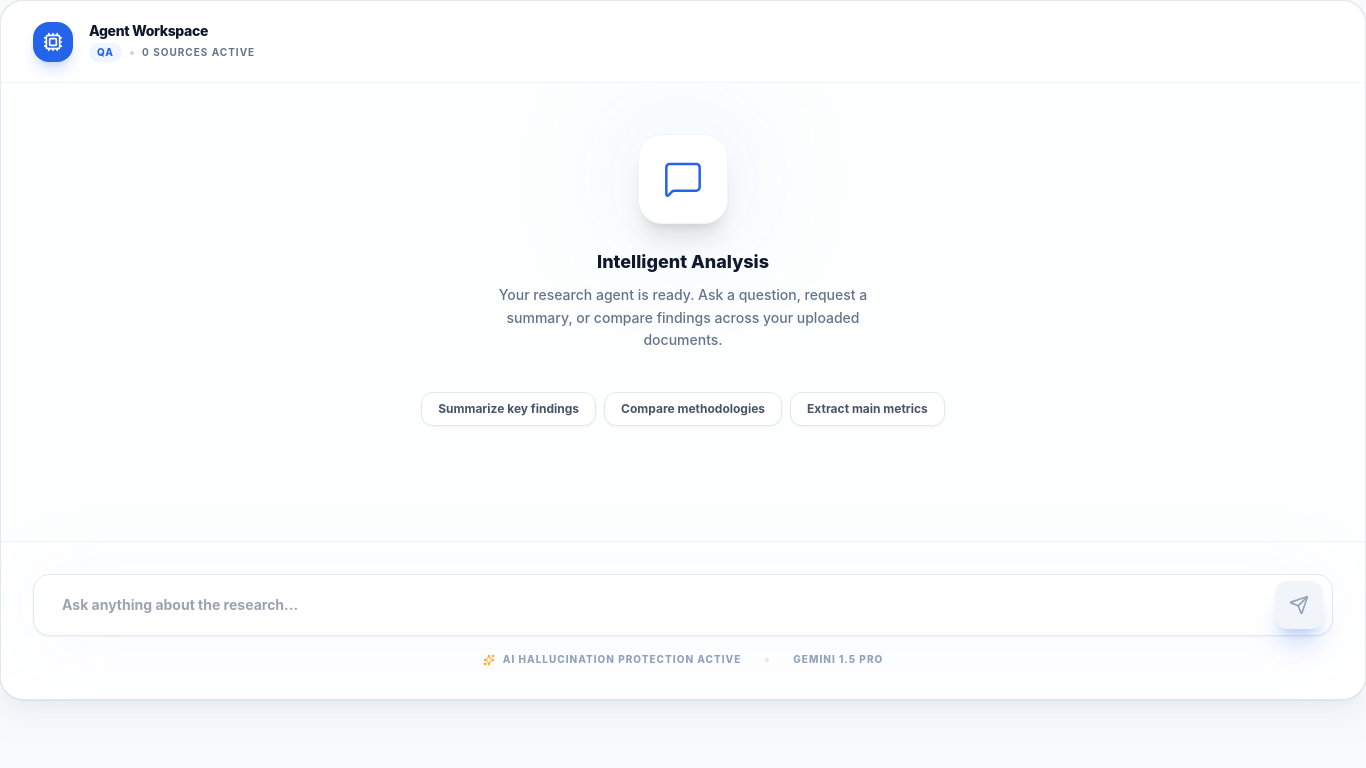
Test: ChatInterface › shows typing indicator while waiting for response
(page scrolled)
Step 1. Type "slow question" into the field with placeholder "Ask anything about the research..." → (683, 605), box [33,574,1333,636]
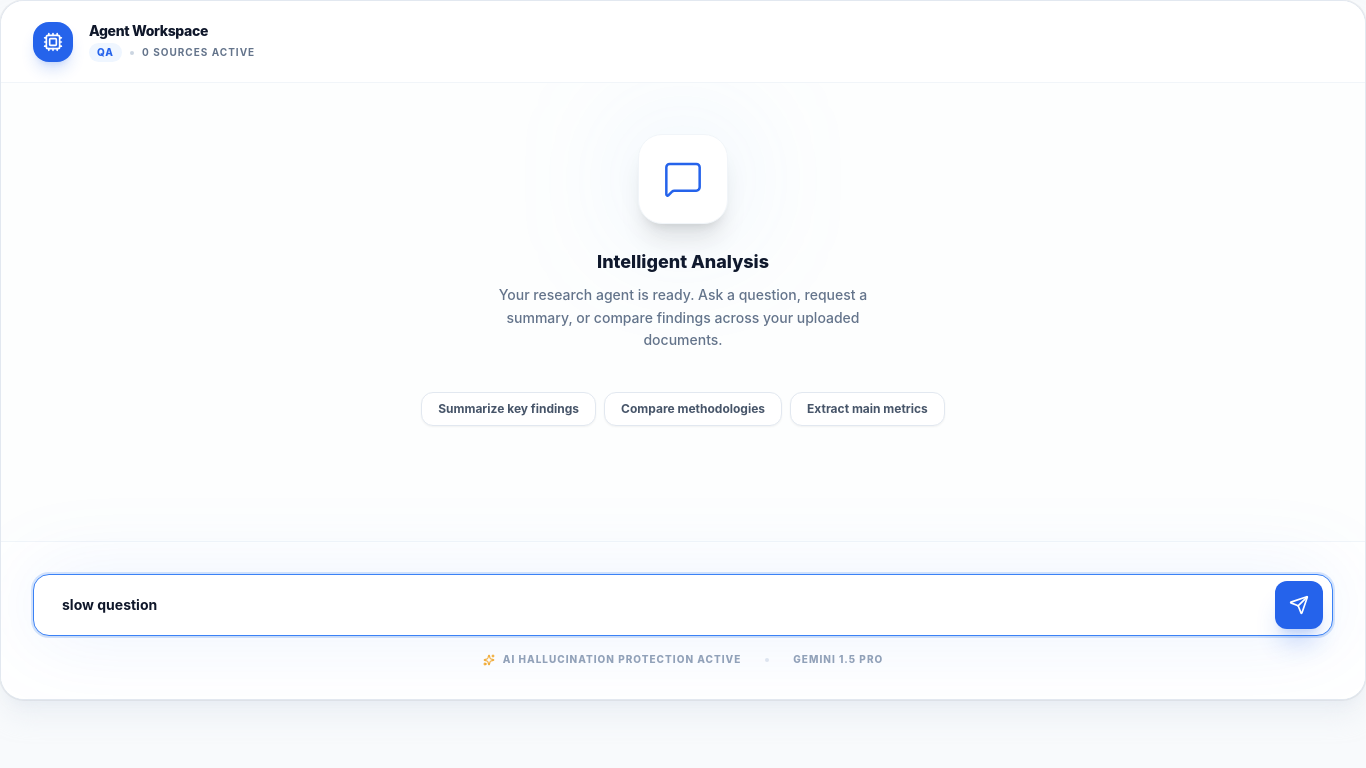
Step 2. Click the button named "Send message" → click(1299, 605), box [1275,581,1323,629]
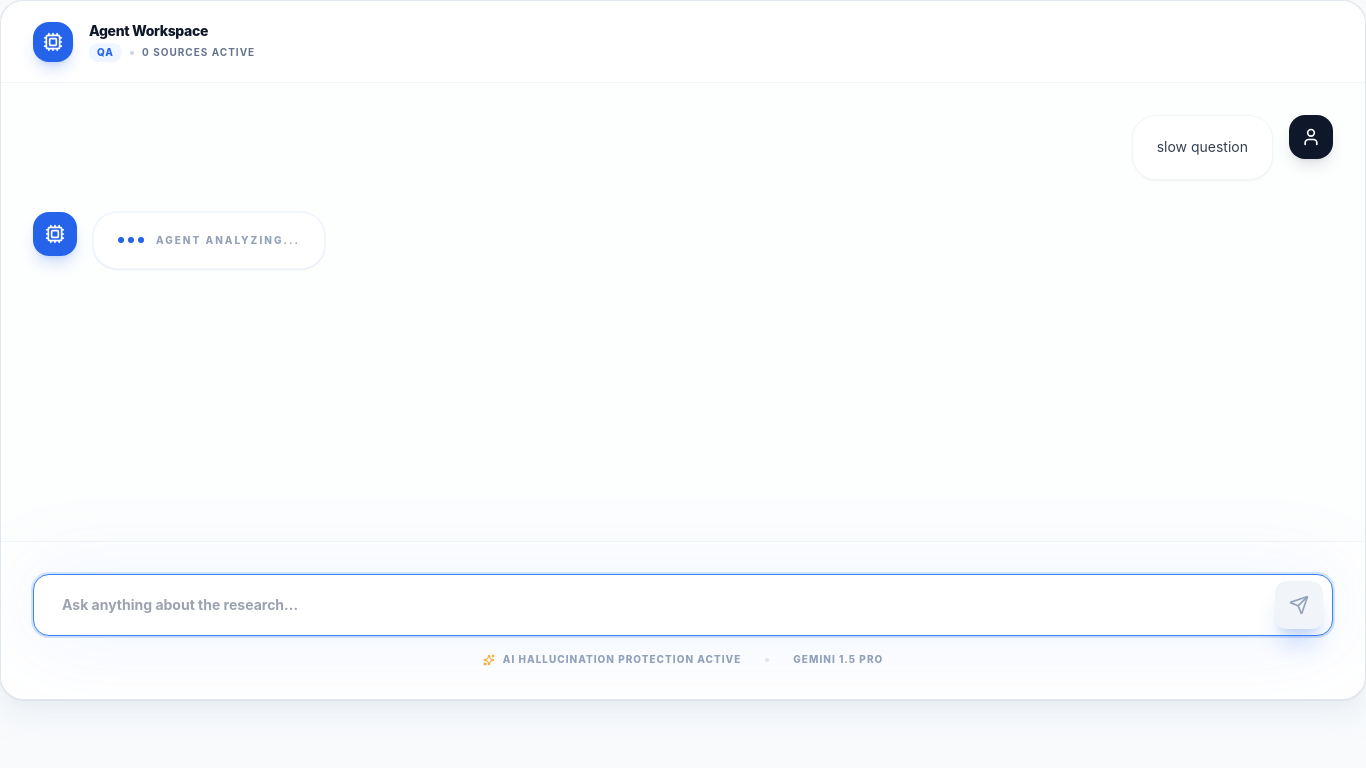
Now the text "Agent Analyzing..." is shown, box [156,233,300,248]
